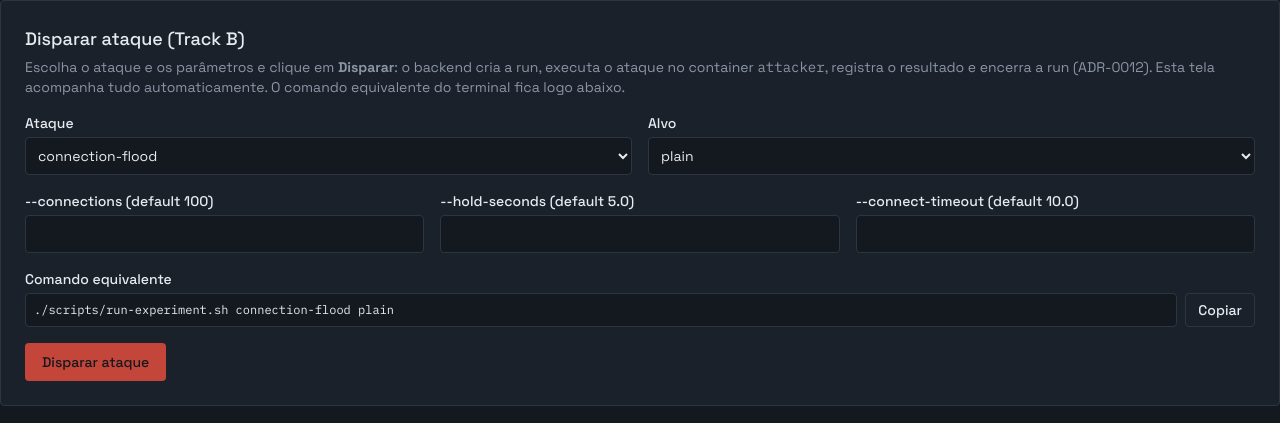
AttackForm › updates the command when --connect-timeout is filled in
Type "15" into the number field labelled "--connect-timeout (default 10.0)". click: (1055, 234)
box: [856,215,1255,253]
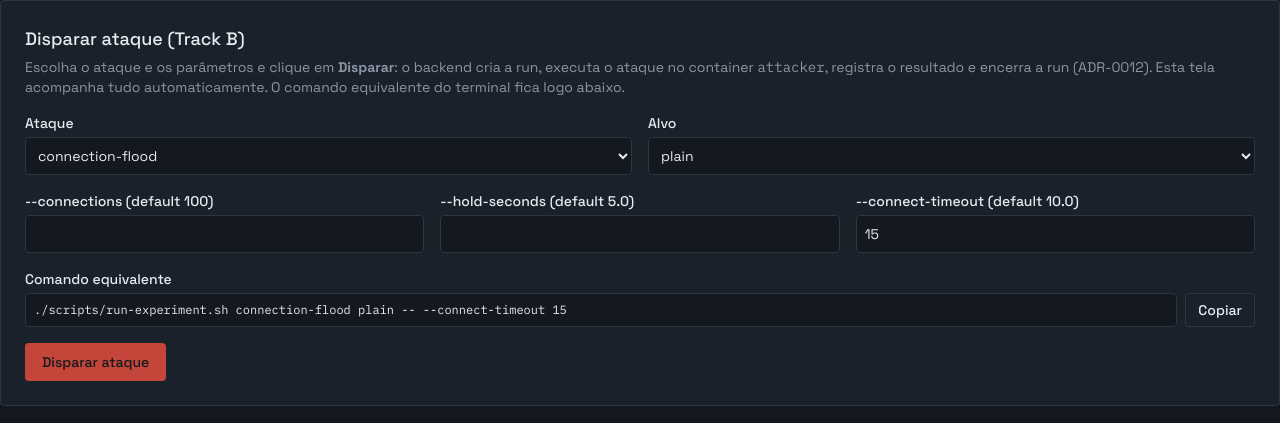
Now the field showing "./scripts/run-experiment.sh connection-flood plain -- --connect-timeout 15" is shown, box [25,293,1177,327]
